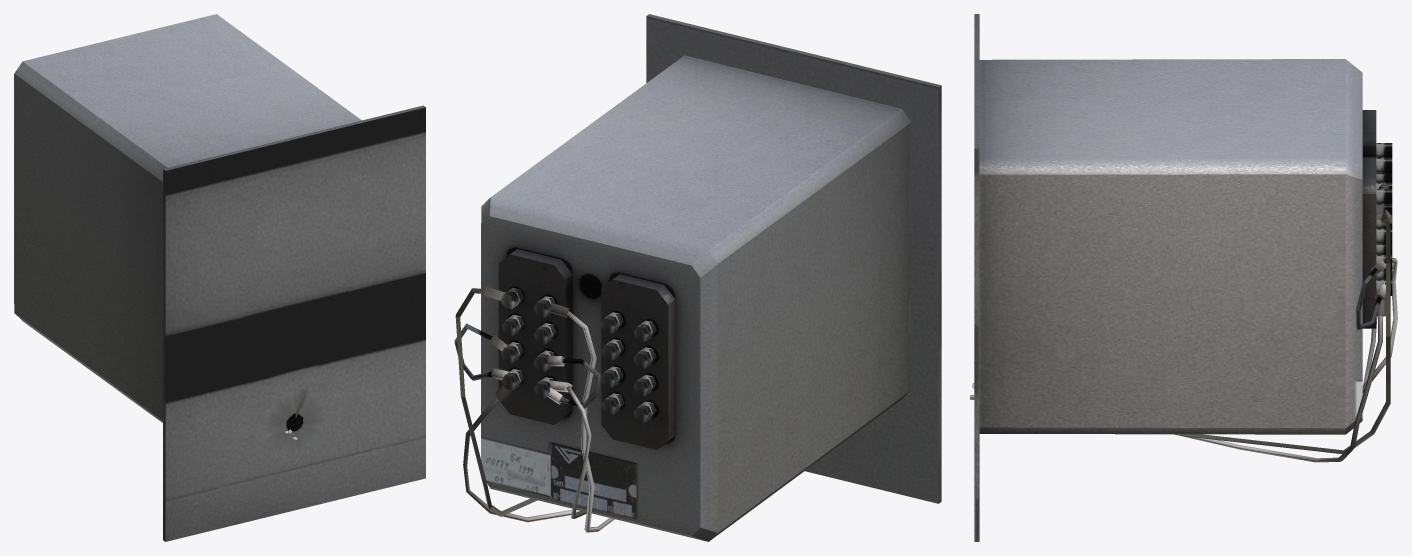
Rendered from box_antenki.FBX.
3 renders of one model, left to right at view 1: azimuth 30°, elevation 25°; view 2: azimuth 150°, elevation 25°; view 3: azimuth 270°, elevation 25°, orthographic. The views are drawn at different scales.
Parts seen in each view (by area): view 1: box_antenki; view 2: box_antenki; view 3: box_antenki.
Boxes of the visible parts, x1,y1,x2,y2 form: box_antenki: [14, 14, 425, 541]; box_antenki: [454, 14, 941, 541]; box_antenki: [970, 14, 1397, 541].
Size of the model in its own units: 4526 by 6163 by 6077.
